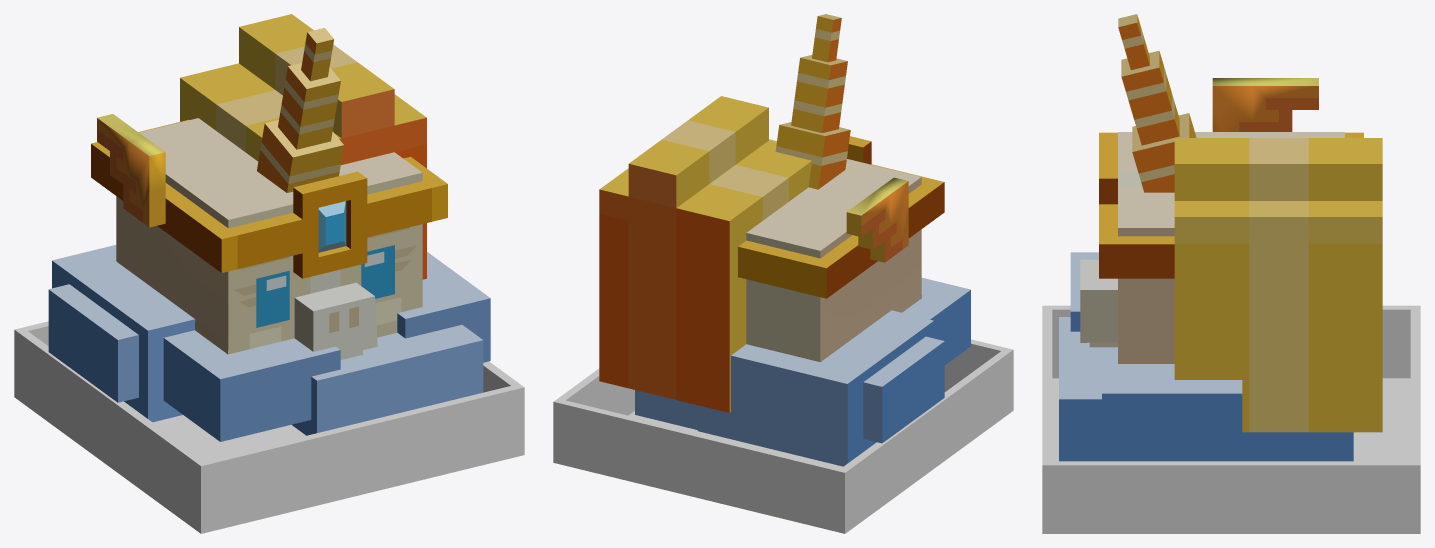
Rendered from Tower_Penelope_L4.fbx.
The picture shows the model from 3 angles, left to right: view 1: azimuth 30°, elevation 25°; view 2: azimuth 150°, elevation 25°; view 3: azimuth 270°, elevation 25°; orthographic projection. The views are drawn at different scales.
Parts seen in each view (by area): view 1: Base, Penelope, Circlet, Hair, Cloud_00, Cloud_01, Horn, Cloud_03, Cloud_04, Wing, Cloud_02; view 2: Hair, Base, Penelope, Cloud_03, Horn, Circlet, Cloud_04, Wing, Cloud_00, Cloud_05; view 3: Hair, Base, Penelope, Cloud_02, Horn, Cloud_01, Circlet, Wing, Cloud_05, Cloud_00.
Part boxes in pixels (bbox=[...]): Base: bbox=[14, 321, 524, 533]; Penelope: bbox=[116, 118, 422, 359]; Circlet: bbox=[91, 119, 447, 278]; Hair: bbox=[180, 14, 426, 279]; Cloud_00: bbox=[163, 330, 340, 441]; Cloud_01: bbox=[292, 325, 483, 435]; Horn: bbox=[257, 28, 343, 192]; Cloud_03: bbox=[52, 245, 195, 422]; Cloud_04: bbox=[48, 284, 138, 402]; Wing: bbox=[97, 114, 165, 227]; Cloud_02: bbox=[397, 252, 490, 362]; Hair: bbox=[599, 96, 811, 412]; Base: bbox=[553, 339, 1013, 533]; Penelope: bbox=[746, 140, 921, 362]; Cloud_03: bbox=[697, 310, 933, 466]; Horn: bbox=[775, 14, 850, 189]; Circlet: bbox=[738, 136, 944, 298]; Cloud_04: bbox=[863, 336, 944, 443]; Wing: bbox=[846, 177, 908, 262]; Cloud_00: bbox=[902, 277, 970, 364]; Cloud_05: bbox=[635, 390, 697, 429]; Hair: bbox=[1174, 138, 1382, 432]; Base: bbox=[1042, 305, 1420, 533]; Penelope: bbox=[1080, 132, 1344, 363]; Cloud_02: bbox=[1102, 351, 1242, 457]; Horn: bbox=[1118, 14, 1196, 192]; Cloud_01: bbox=[1059, 317, 1253, 461]; Circlet: bbox=[1099, 132, 1363, 278]; Wing: bbox=[1212, 78, 1318, 131]; Cloud_05: bbox=[1253, 432, 1353, 461]; Cloud_00: bbox=[1070, 252, 1098, 331].
Size of the model in its own units: 101 by 127 by 100.
